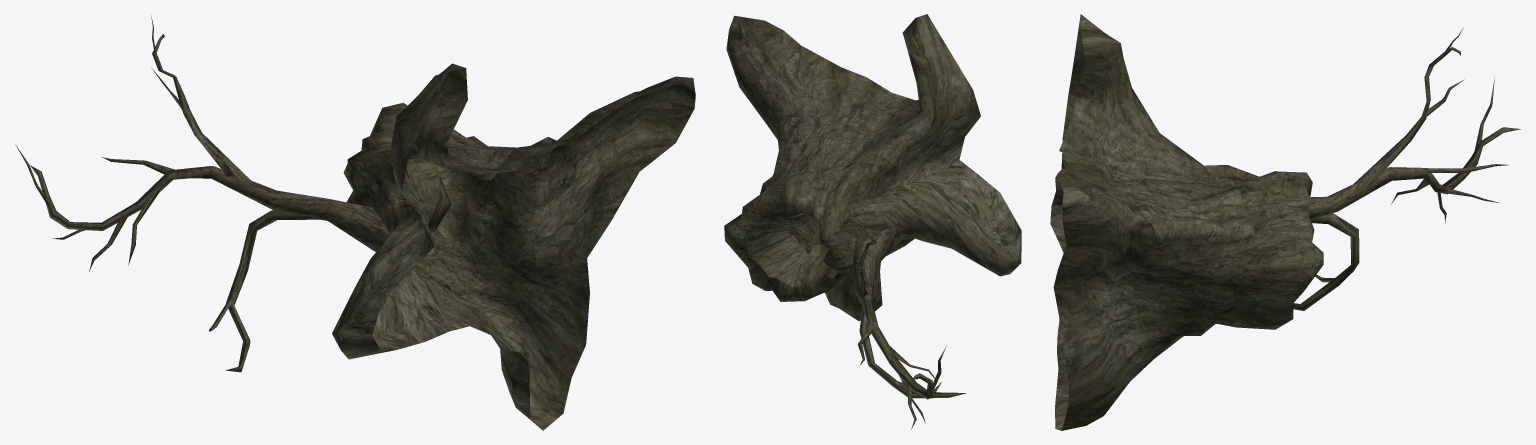
Rendered from TI_Old_Tree_08.fbx.
The picture shows the model from 3 angles, left to right: view 1: azimuth 30°, elevation 25°; view 2: azimuth 150°, elevation 25°; view 3: azimuth 270°, elevation 25°; orthographic projection. The views are drawn at different scales.
Parts seen in each view (by area): view 1: TI_Old_Tree_08; view 2: TI_Old_Tree_08; view 3: TI_Old_Tree_08.
Boxes of the visible parts, x1,y1,x2,y2 form: TI_Old_Tree_08: (15,15,695,430); TI_Old_Tree_08: (724,14,1021,429); TI_Old_Tree_08: (1050,14,1520,430).
Bounding box in the file's own units: 4.66 × 3.61 × 4.1.
